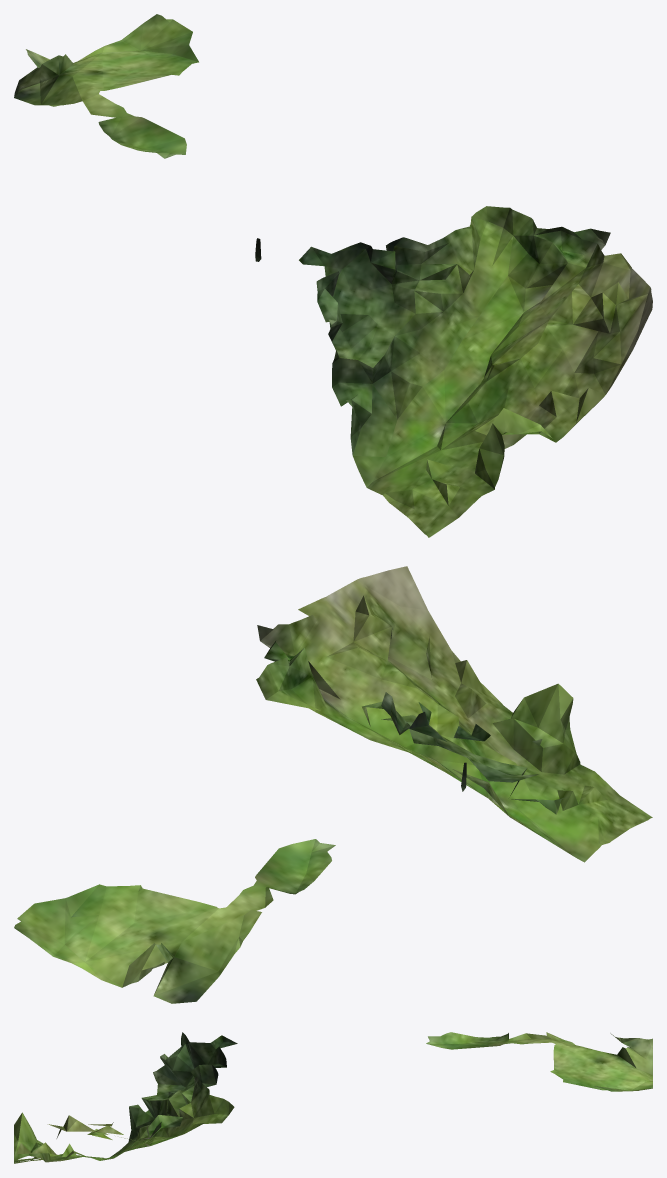
3 views of the same model, one above another, from view 1: azimuth 30°, elevation 25°; view 2: azimuth 150°, elevation 25°; view 3: azimuth 270°, elevation 25° (orthographic). The views are drawn at different scales.
Bounding box in the file's own units: 38.3 × 23.52 × 104.
Materials: 1 (1 with a texture image).
